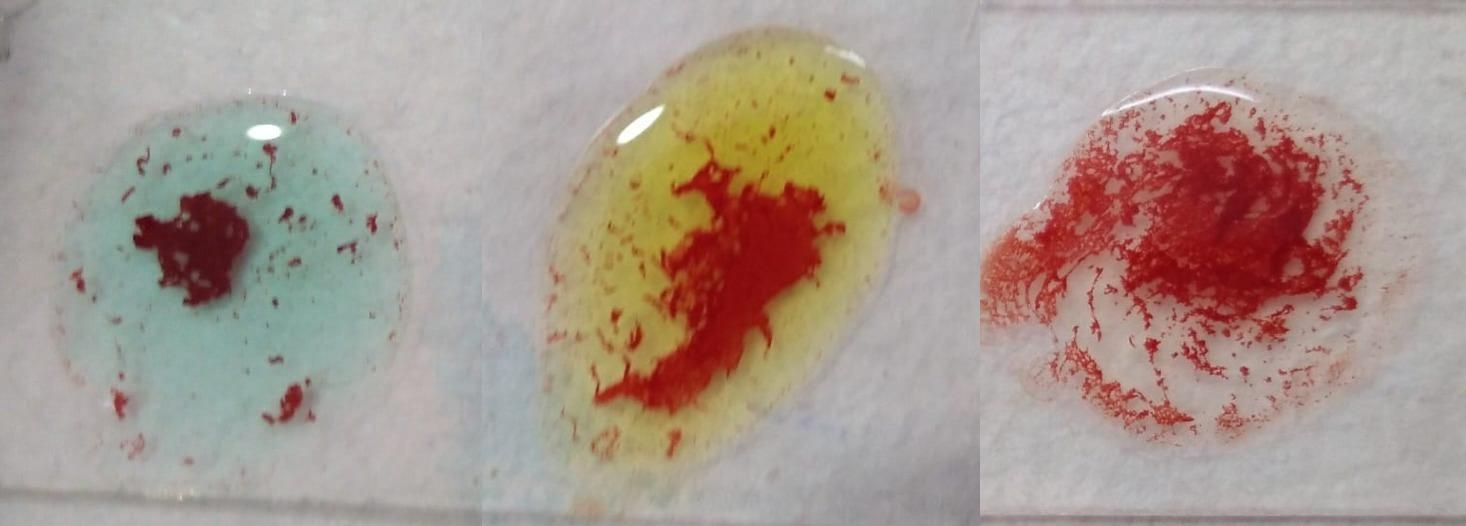A: (81, 100, 400, 456)
B: (560, 34, 893, 466)
D: (997, 67, 1400, 464)
